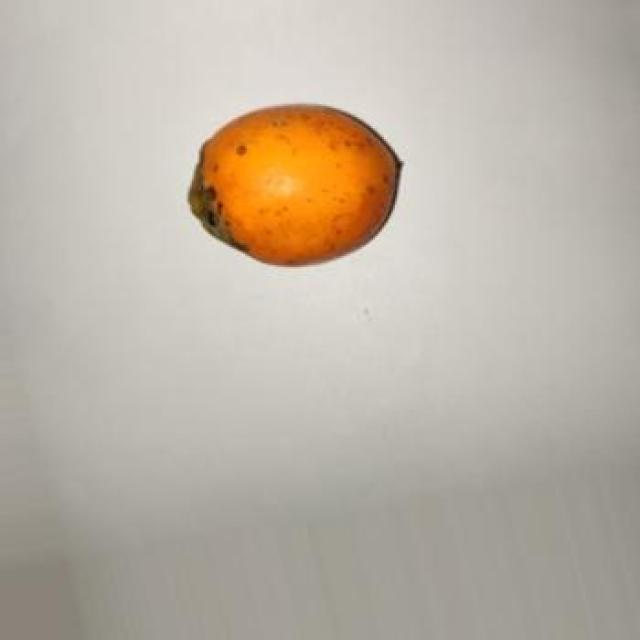good: (187, 108, 400, 269)
